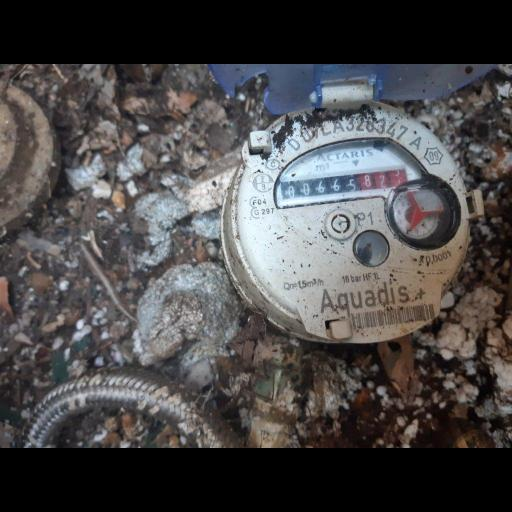0: (283, 180, 299, 200), (298, 179, 314, 198)
2: (374, 170, 390, 190)
5: (343, 173, 359, 193)
6: (328, 174, 344, 194), (313, 177, 328, 196)
8: (358, 172, 374, 190)
border_water_meter_number: (278, 159, 413, 203)
